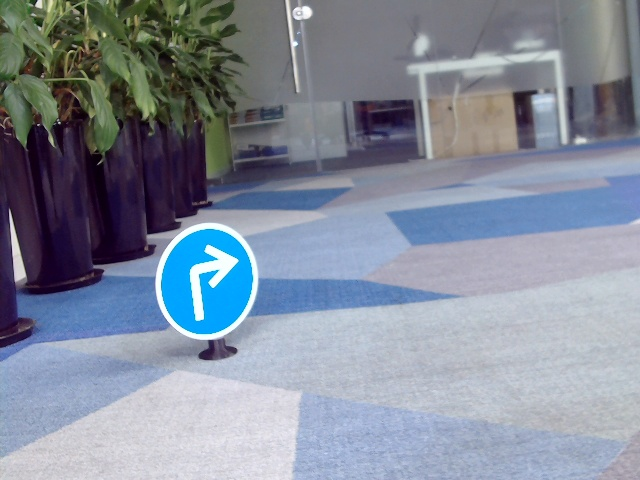turn_right: (180, 241, 236, 323)
